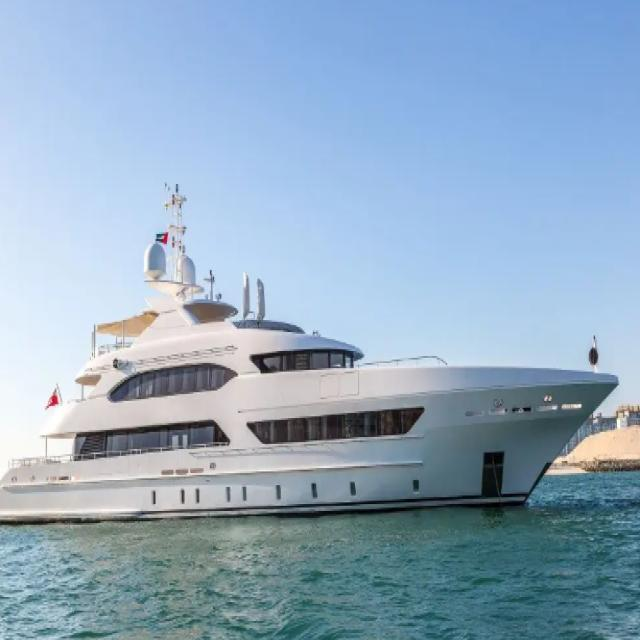houseboat: (7, 197, 625, 534)
